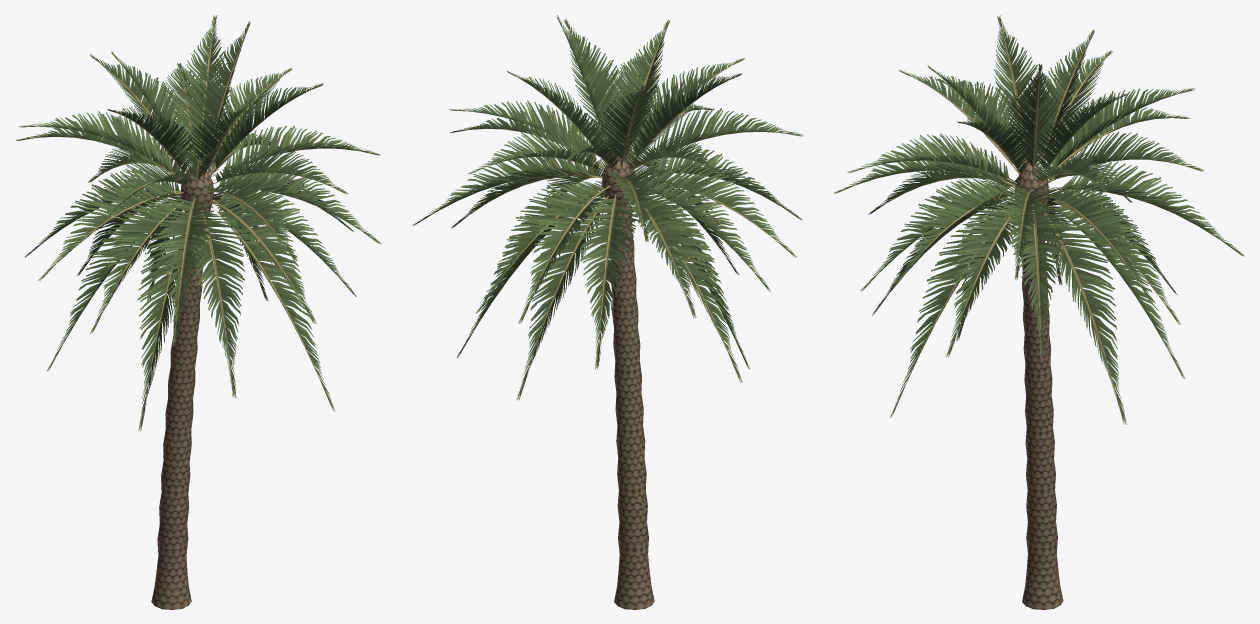
The model's file is date_palm_b.glb.
3 renders of one model, left to right at view 1: azimuth 30°, elevation 25°; view 2: azimuth 150°, elevation 25°; view 3: azimuth 270°, elevation 25°, orthographic. The views are drawn at different scales.
Parts seen in each view (by area): view 1: Body; view 2: Body; view 3: Body.
Part boxes in pixels (bbox=[...]): Body: bbox=[16, 15, 381, 609]; Body: bbox=[412, 15, 803, 609]; Body: bbox=[834, 15, 1244, 609].
Size of what is drawn, in the model's own units: 7.54 by 11.76 by 7.61.
Materials: 2 (2 with a texture image).
